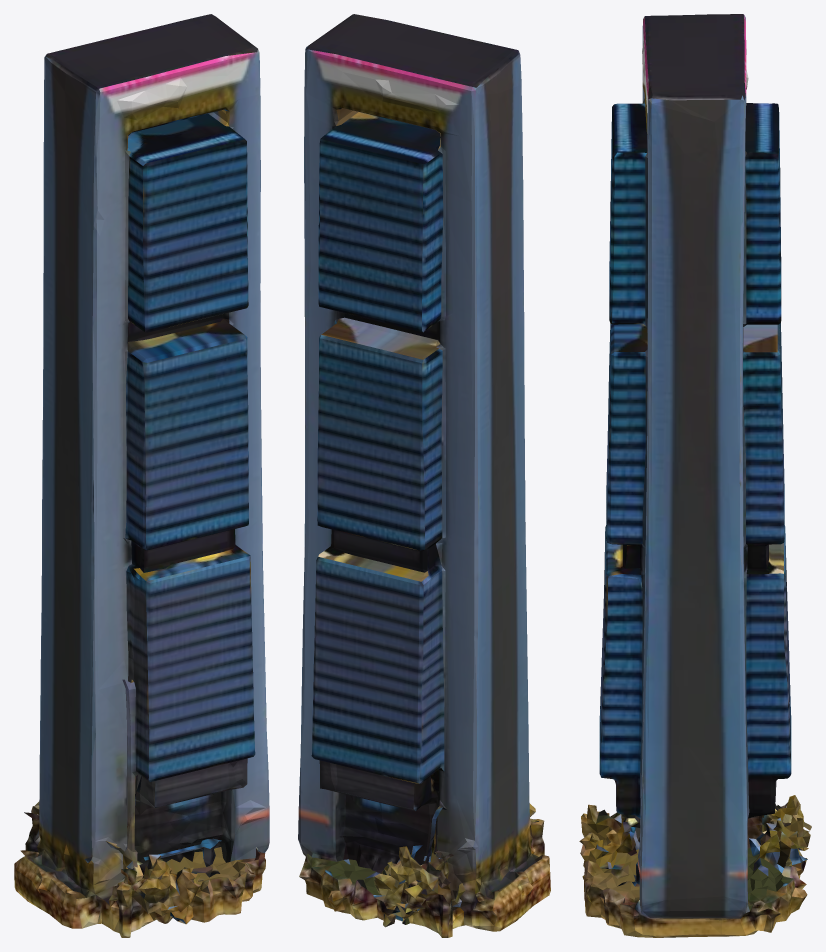
File: torre_monumental.glb
3 renders of one model, left to right at view 1: azimuth 30°, elevation 25°; view 2: azimuth 150°, elevation 25°; view 3: azimuth 270°, elevation 25°, orthographic.
Visible parts, largest first — view 1: tmpwn67meq8.ply; view 2: tmpwn67meq8.ply; view 3: tmpwn67meq8.ply.
Part boxes in pixels (box(x1,y1,x2,y2)): tmpwn67meq8.ply: box(14, 14, 269, 937); tmpwn67meq8.ply: box(298, 14, 550, 937); tmpwn67meq8.ply: box(579, 14, 811, 937).
Size of the model in its own units: 0.5193 by 1.99 by 0.4961.
Materials: 1 (1 with a texture image).
